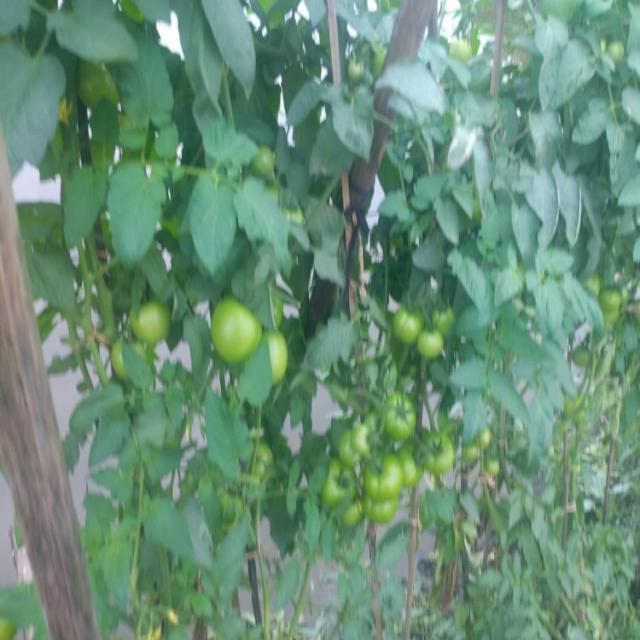tomato: (211, 291, 258, 364), (135, 299, 180, 349), (239, 140, 290, 179), (261, 324, 297, 376), (387, 302, 424, 350), (361, 455, 403, 495), (380, 398, 413, 446), (321, 463, 359, 504), (111, 339, 151, 376), (428, 434, 460, 477), (352, 422, 381, 462), (395, 456, 427, 489), (369, 500, 401, 532), (334, 436, 366, 463), (601, 285, 633, 311), (246, 446, 273, 476), (445, 38, 476, 62), (418, 331, 442, 361), (434, 305, 458, 331), (339, 61, 369, 81), (608, 39, 631, 64), (462, 441, 487, 464), (584, 270, 607, 294), (480, 423, 502, 448), (344, 500, 365, 525), (609, 303, 621, 324), (486, 461, 500, 478)
